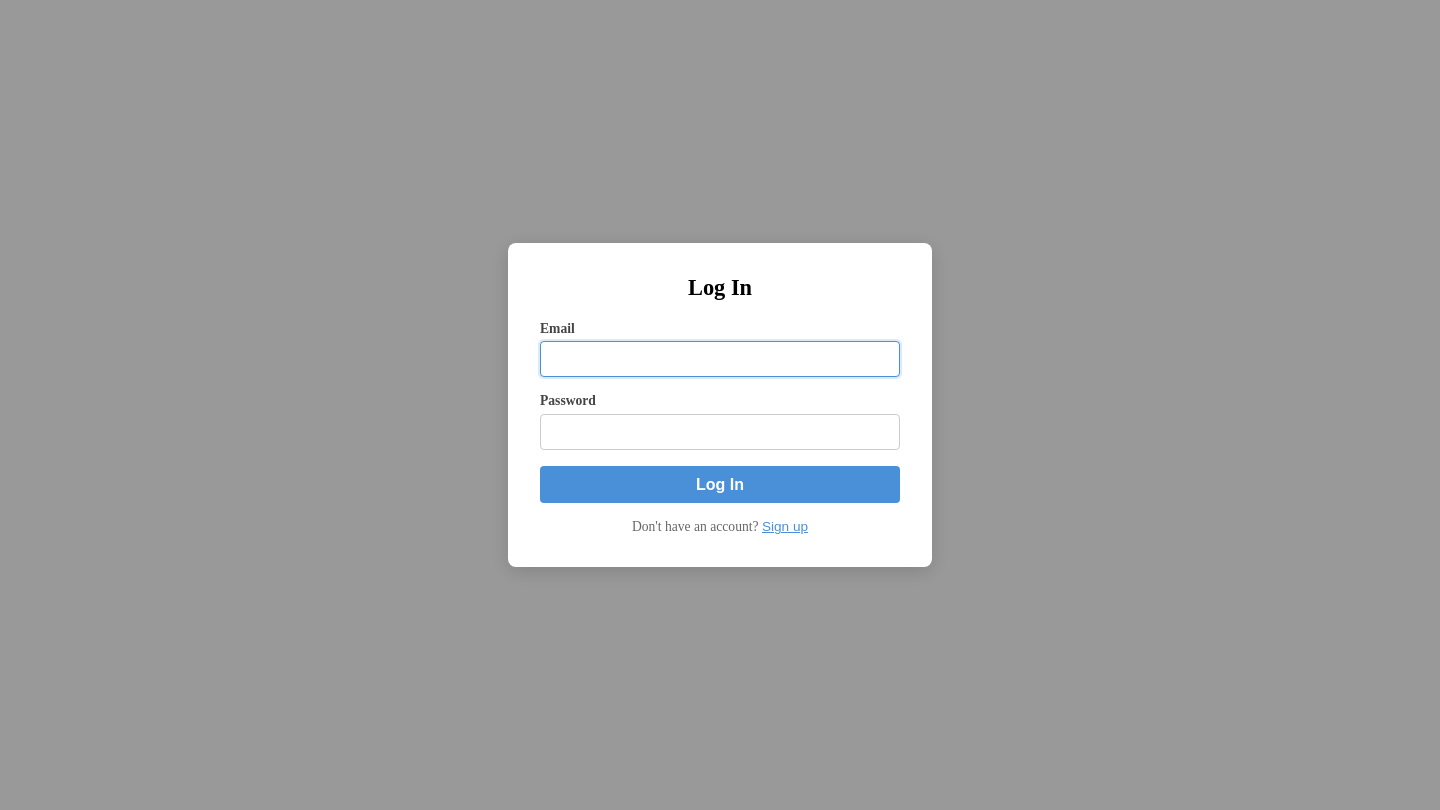
Test: AuthForm › switches to signup mode
Expected: the heading "Log In" is shown, x1=688 y1=275 x2=752 y2=300
Click the button "Sign up" at coordinates (785, 527), box x1=762 y1=519 x2=808 y2=534
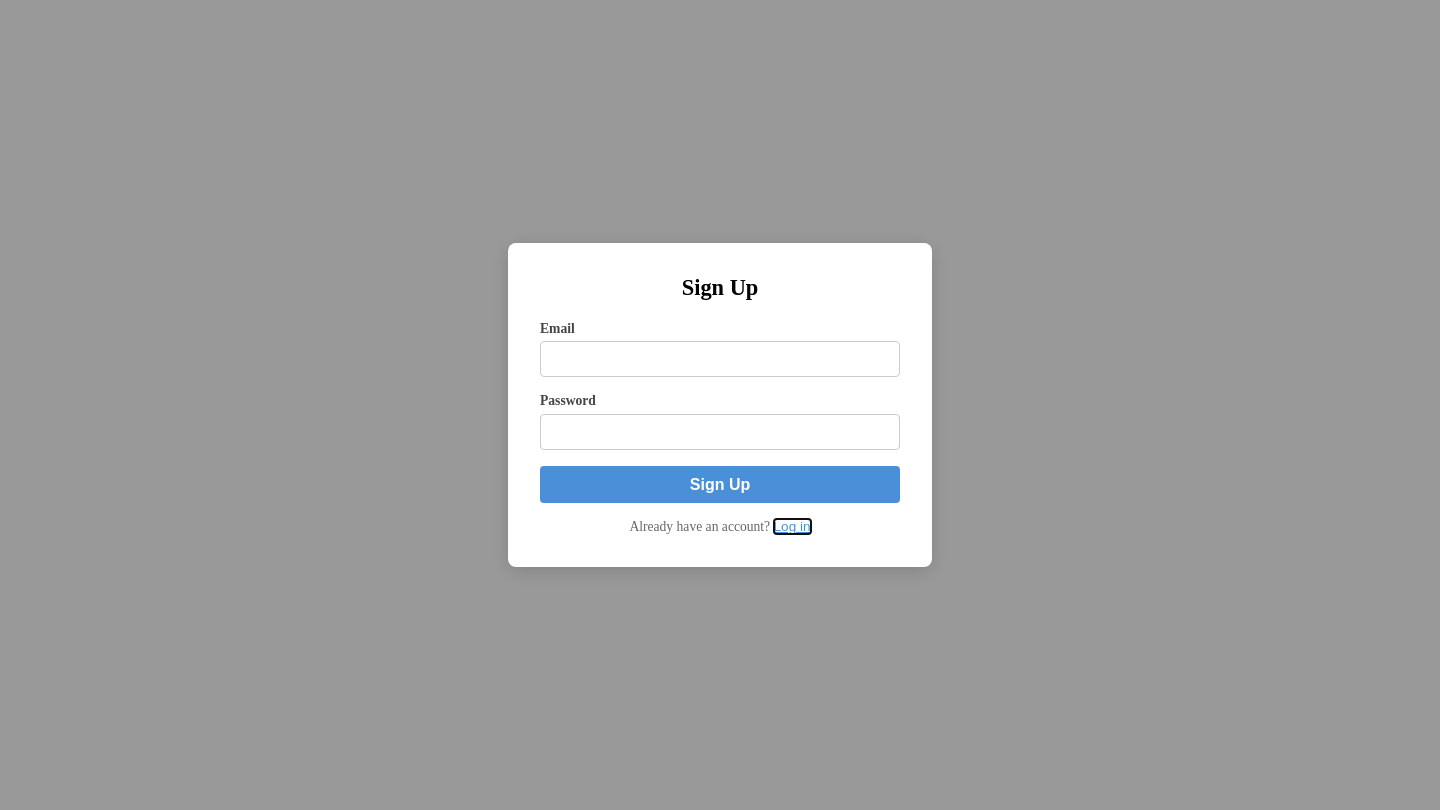
Result: the heading "Sign Up" is shown at x1=682 y1=275 x2=758 y2=300
